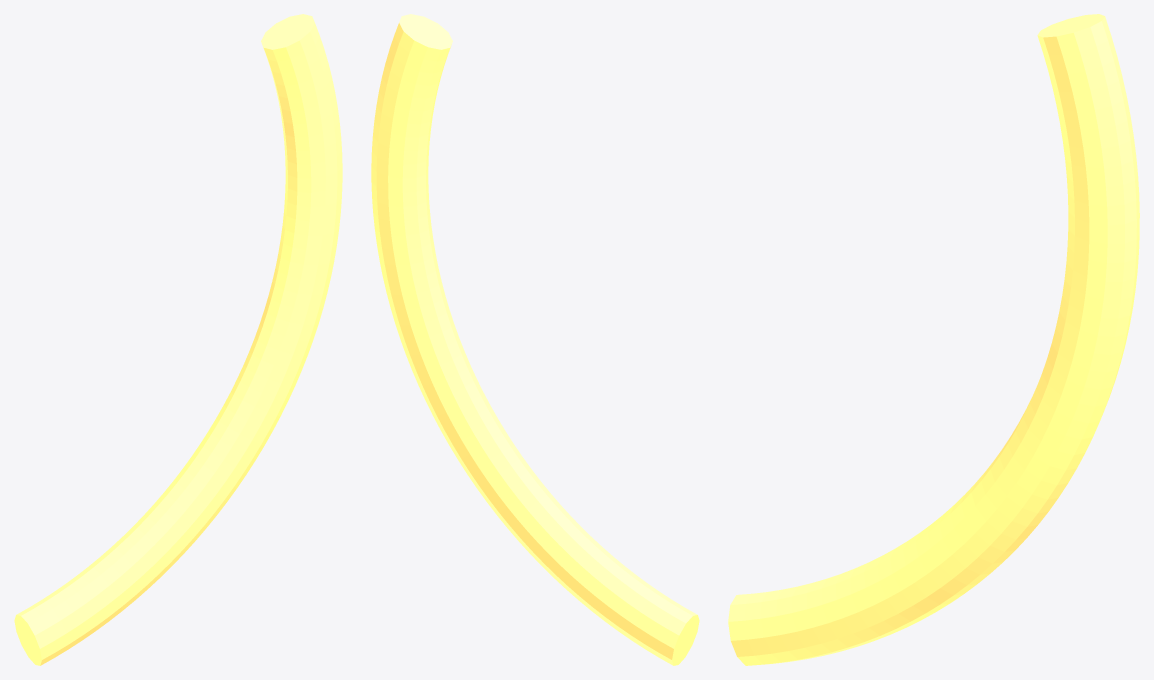
Rendered from ev_core_r10dp_halo_warm_front.glb.
3 renders of one model, left to right at view 1: azimuth 30°, elevation 25°; view 2: azimuth 150°, elevation 25°; view 3: azimuth 330°, elevation 25°, orthographic. The views are drawn at different scales.
Visible parts, largest first — view 1: warm_front; view 2: warm_front; view 3: warm_front.
Boxes of the visible parts, left/top/right/bottom form: warm_front: left=14, top=14, right=342, bottom=665; warm_front: left=371, top=14, right=699, bottom=665; warm_front: left=728, top=14, right=1139, bottom=665.
Bounding box in the file's own units: 53.78 × 93.56 × 6.86.
